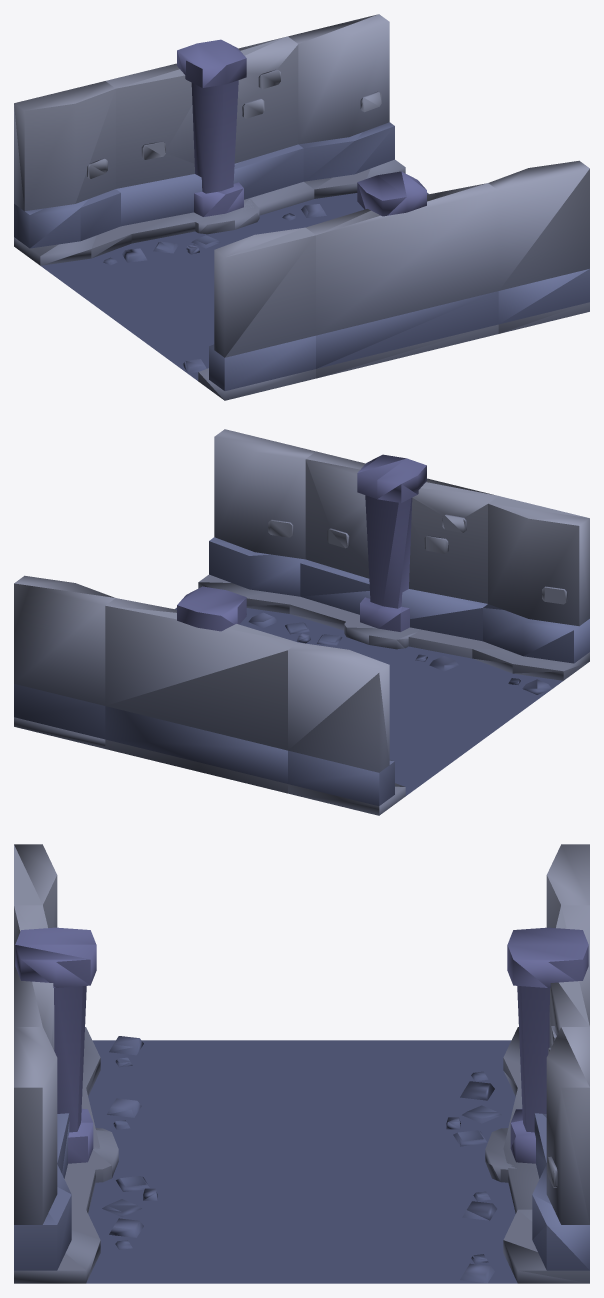
The model's file is corridor-wide_lev2.glb.
The picture shows the model from 3 angles, top to bottom: view 1: azimuth 30°, elevation 25°; view 2: azimuth 150°, elevation 25°; view 3: azimuth 270°, elevation 25°; orthographic projection. The views are drawn at different scales.
Visible parts, largest first — view 1: corridor-wide_lev2; view 2: corridor-wide_lev2; view 3: corridor-wide_lev2.
Boxes of the visible parts, <box> form: corridor-wide_lev2: <box>14,14,589,400</box>; corridor-wide_lev2: <box>14,429,589,815</box>; corridor-wide_lev2: <box>14,844,589,1283</box>.
Bounding box in the file's own units: 8 × 3.33 × 8.
1 material, 1 textured.
